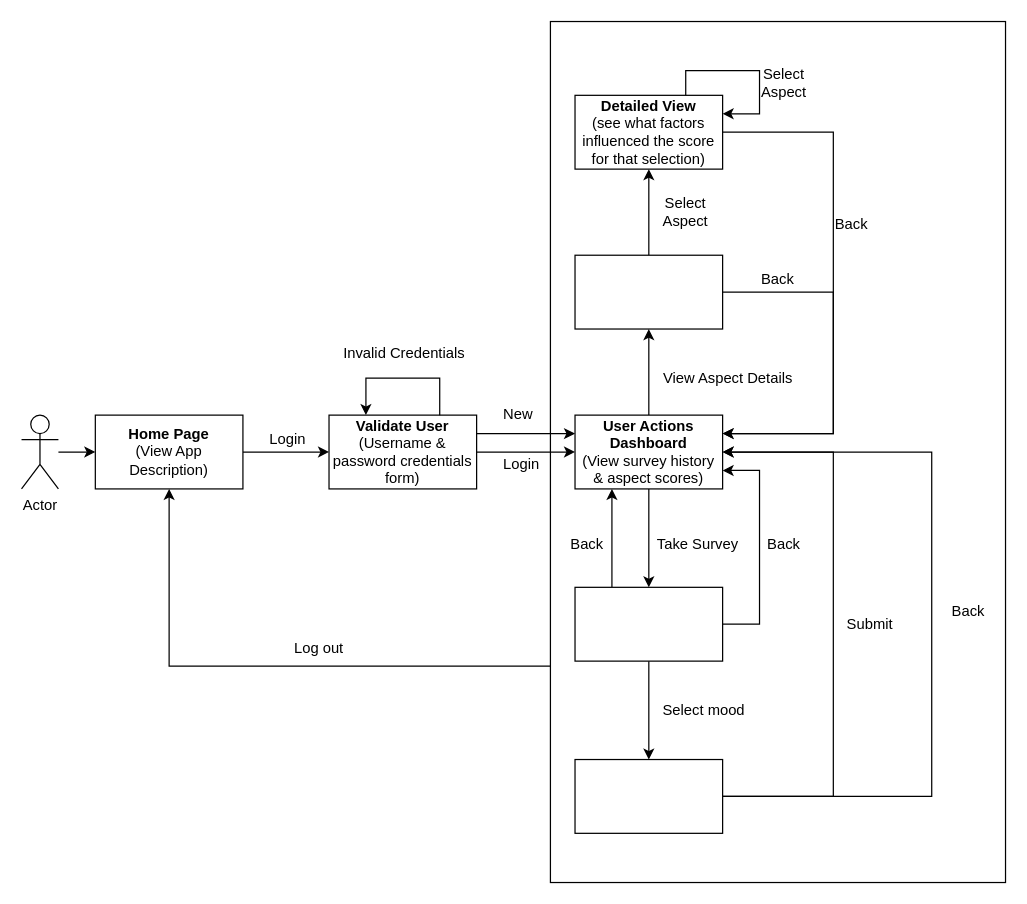
Image size: 1027x904. Some labels were removed from this diagram. Each missing label, with the centre of its shape:
Aspect Overview (see history of scores for specific aspect): (648,291)
Factor Selection (select what factors influenced that mood): (648,795)
Mood Selection (Select mood that your feeling): (648,623)
